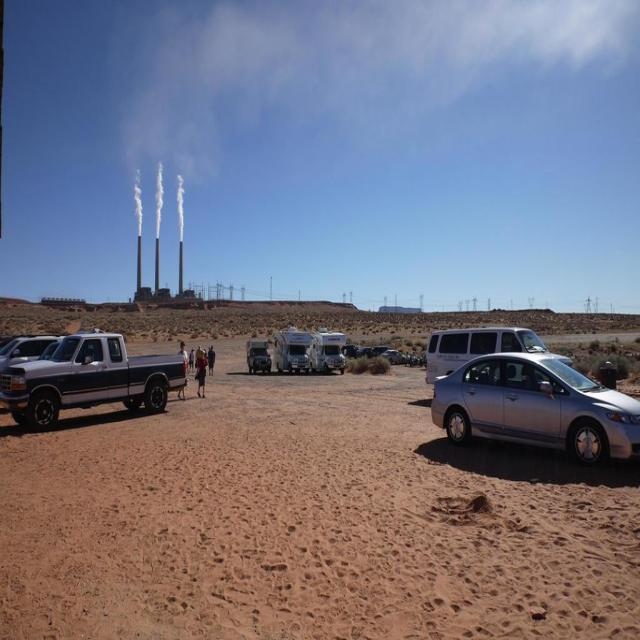car: (425, 330, 636, 472)
